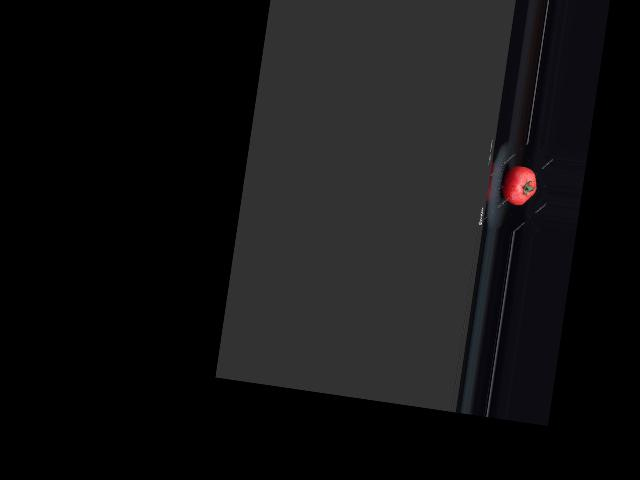tomato: (499, 163, 539, 207)
